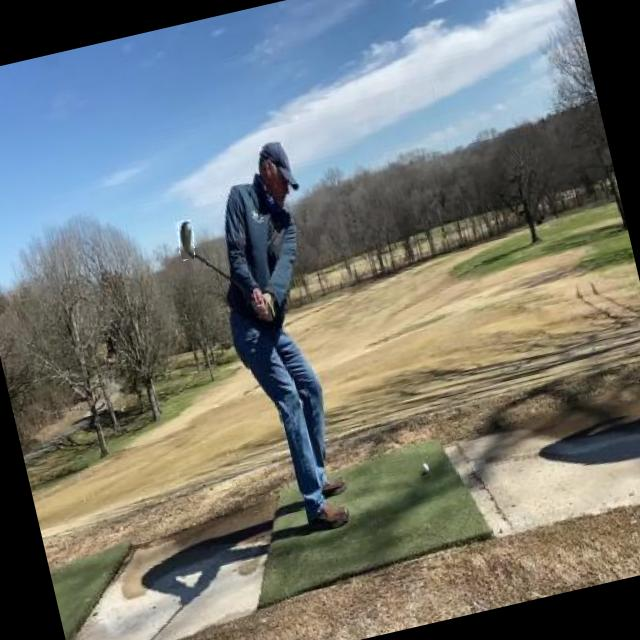club head: (174, 218, 198, 260)
